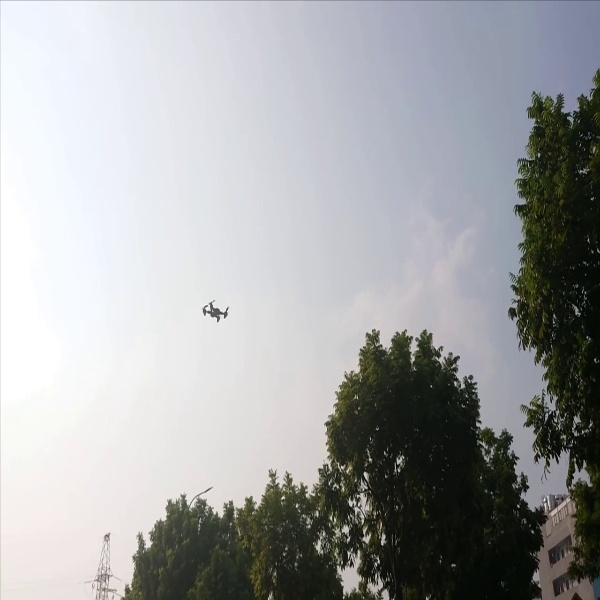drone: (201, 293, 230, 329)
